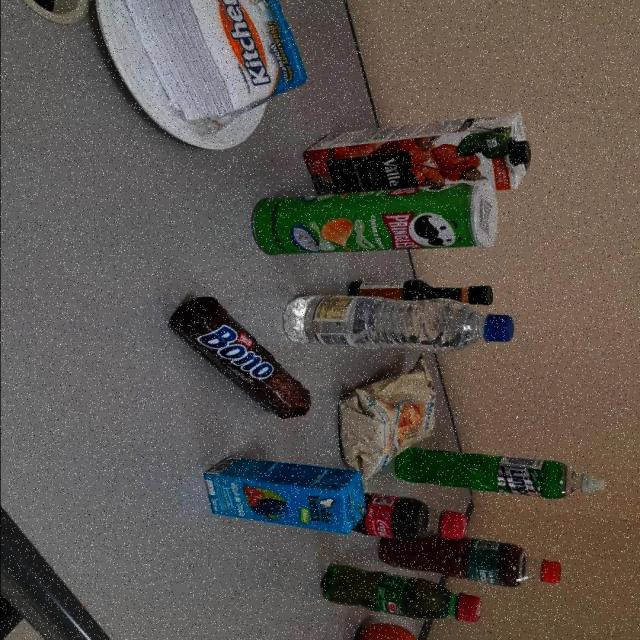Cleaner: (388, 449, 604, 500)
CoconutWater: (202, 457, 366, 535)
Coke: (351, 493, 467, 542)
Cookies: (168, 297, 308, 419)
CornFlakes: (336, 364, 434, 480)
EnglishSauce: (346, 280, 492, 306)
Guarana: (321, 568, 478, 622)
IceTea: (376, 536, 560, 588)
Orange: (350, 621, 420, 640)
Pringles: (249, 180, 496, 258)
Water: (282, 294, 512, 349)
